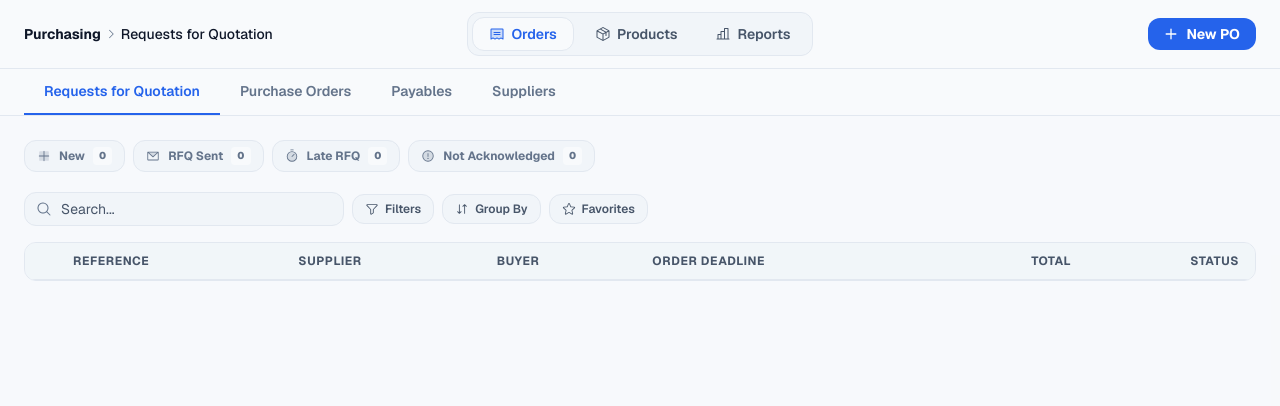
Test case: Purchasing product search › matches brackets literally, case-insensitively
Click the button "Products" at (636, 34), box [578,17,694,51]
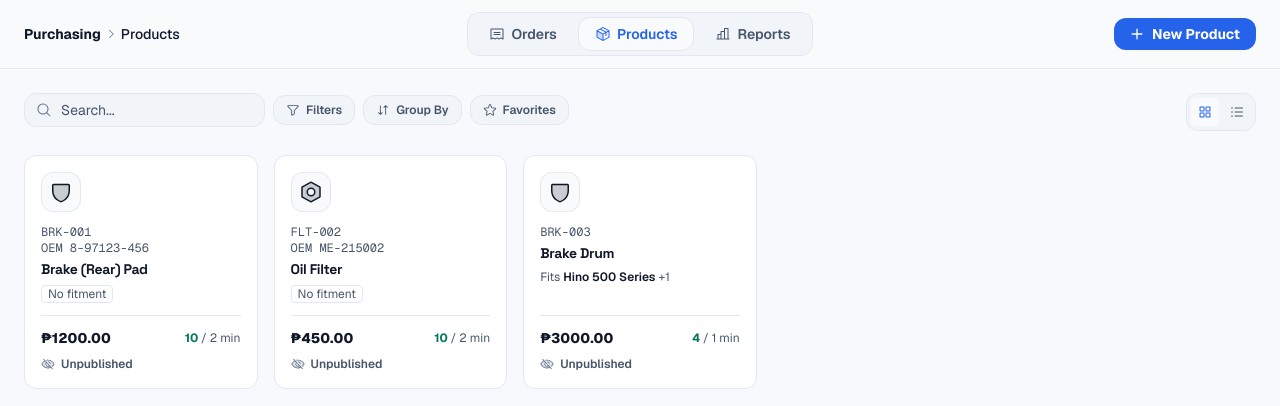
Type "  brake (rear " into the field with placeholder "Search..." at (144, 110), box [24,93,265,127]
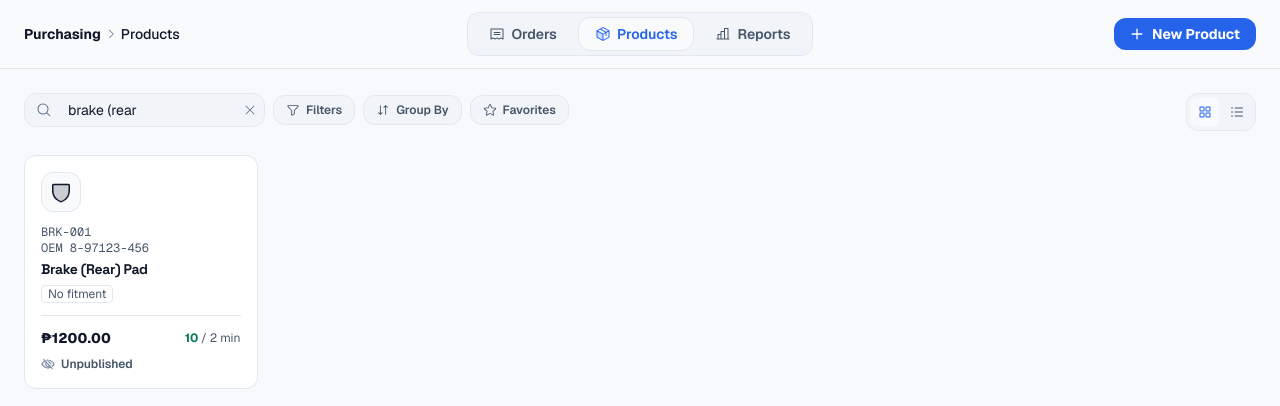
Expected: the heading "Brake (Rear) Pad" is shown, [41,260,148,278]
Expected: the button "Oil Filter" is gone
